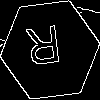R: (25, 25, 63, 75)
